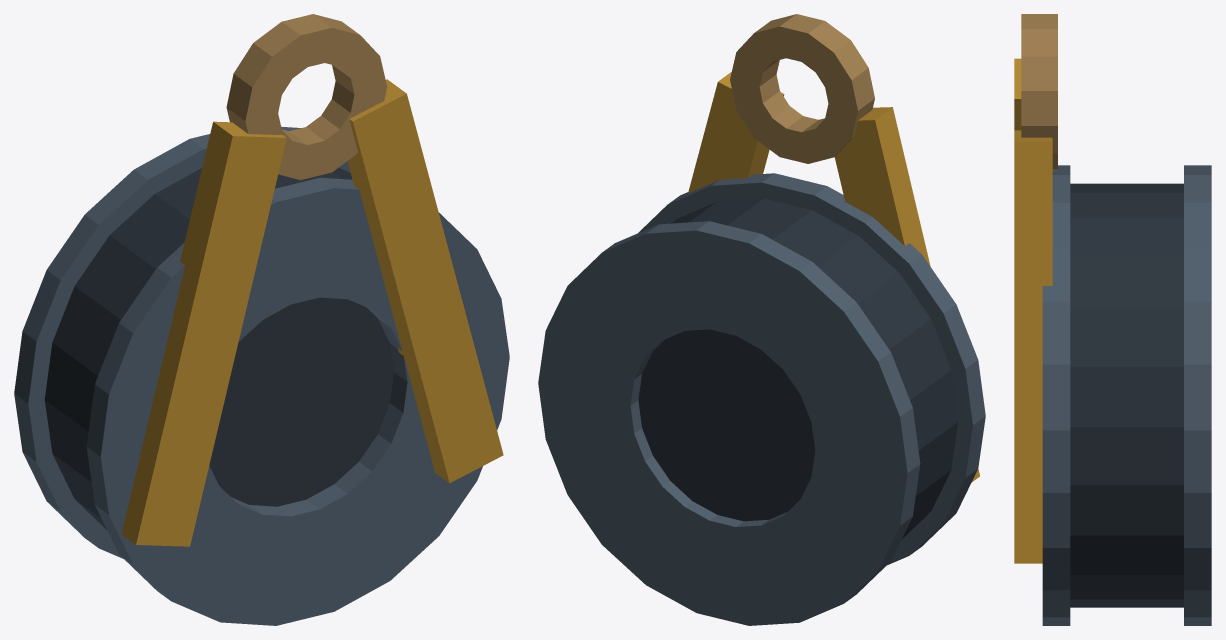
Rendered from C-01_sheave.glb.
The picture shows the model from 3 angles, left to right: view 1: azimuth 30°, elevation 25°; view 2: azimuth 150°, elevation 25°; view 3: azimuth 270°, elevation 25°; orthographic projection. The views are drawn at different scales.
Parts seen in each view (by area): view 1: C-01_sheave; view 2: C-01_sheave; view 3: C-01_sheave.
Boxes of the visible parts, x1=… form: C-01_sheave: x1=14, y1=14, x2=509, y2=625; C-01_sheave: x1=538, y1=14, x2=985, y2=625; C-01_sheave: x1=1014, y1=14, x2=1211, y2=625.
Bounding box in the file's own units: 0.3 × 0.4172 × 0.1285.
